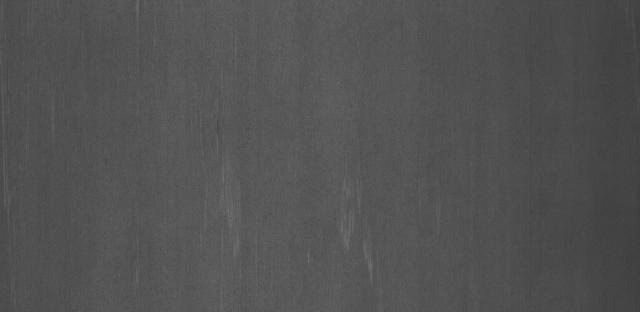silk_spot: (193, 148, 401, 272)
